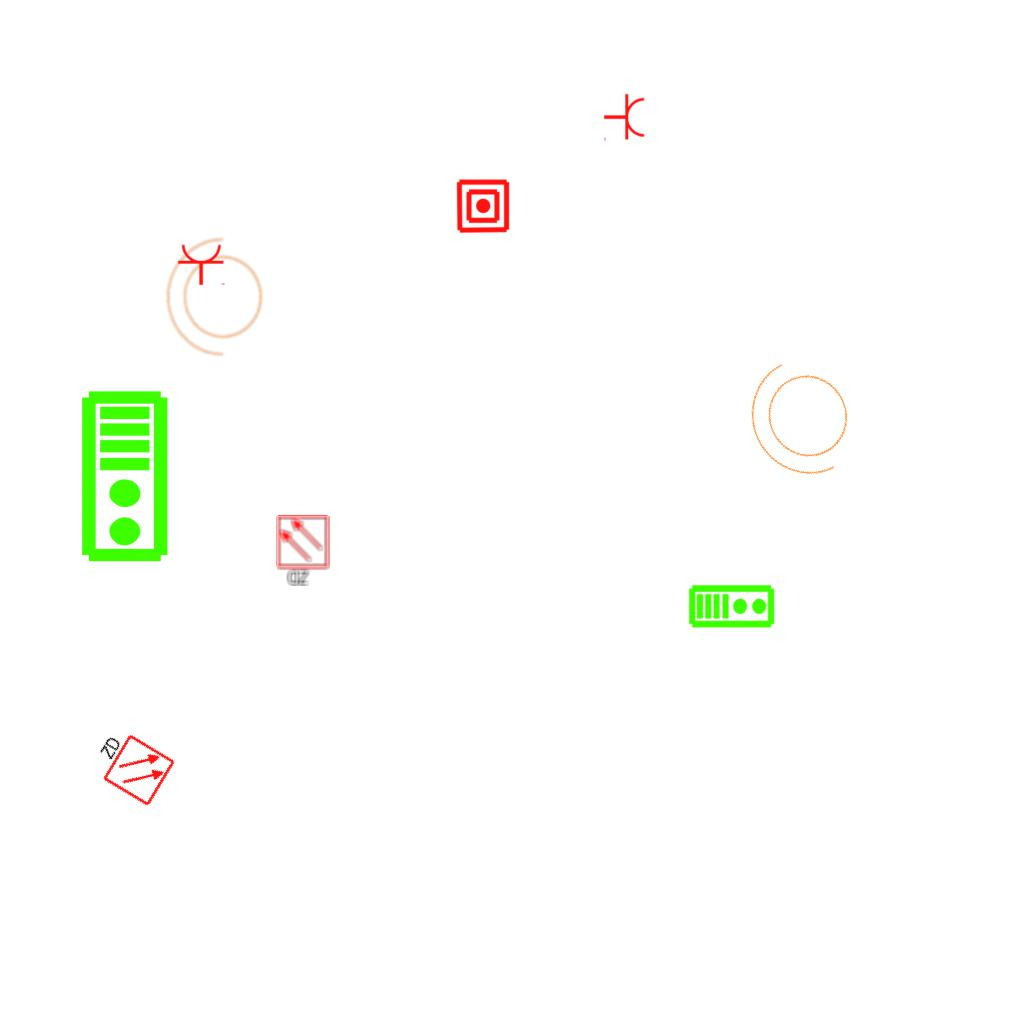Gegensprechanlage_mit_Video: (79, 389, 174, 565), (688, 582, 776, 629)
NAM-Nichtautomatischer_Melder: (455, 178, 511, 234)
Scheinwerfer_fuer_Alarmbeleuchtung: (725, 336, 885, 506), (162, 234, 274, 366)
Schukosteckdose_einfach: (603, 93, 646, 143), (177, 243, 227, 286)
ZD_Melder_in_Zwischendecke_mit_Revisionsoeffnung_mind_40_x_40_cm: (84, 722, 177, 810), (275, 514, 332, 588)
